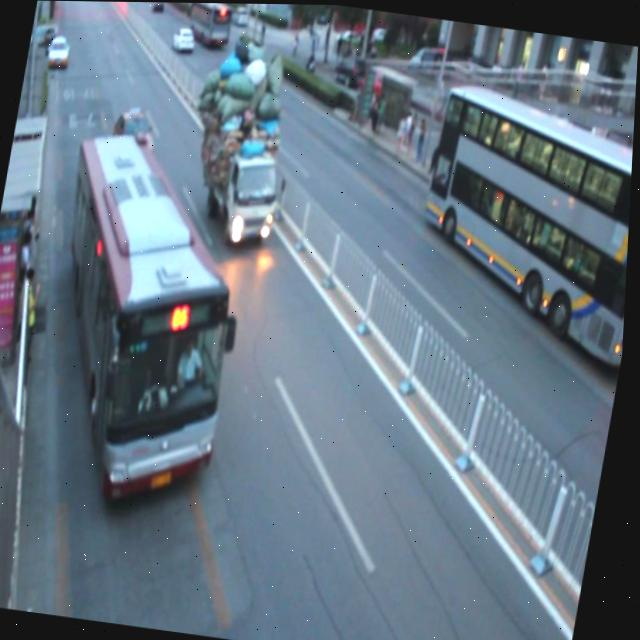bus: (188, 54, 297, 246)
car: (108, 102, 162, 162)
van: (25, 134, 262, 508), (406, 82, 637, 359)
